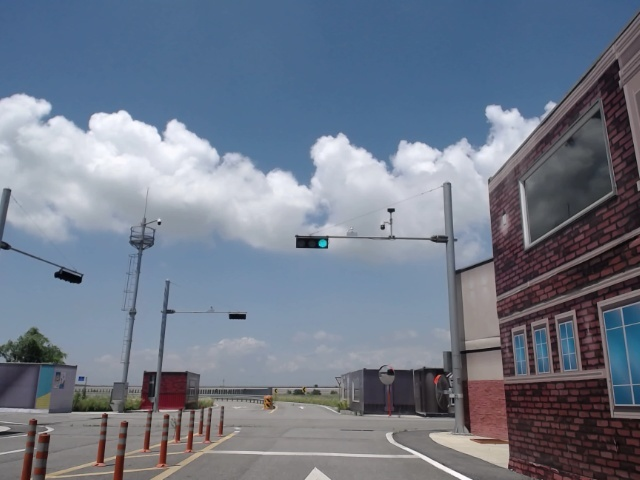green_3: (296, 237, 329, 249)
